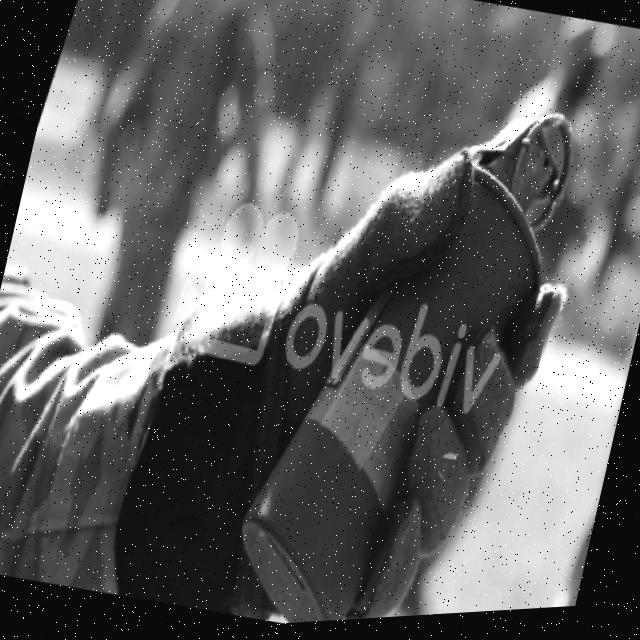grenade: (216, 50, 610, 630)
